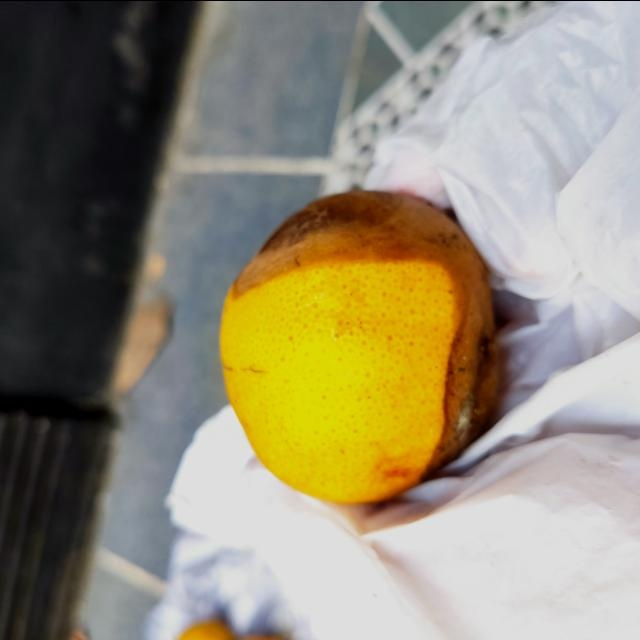agrume: (218, 187, 498, 501)
